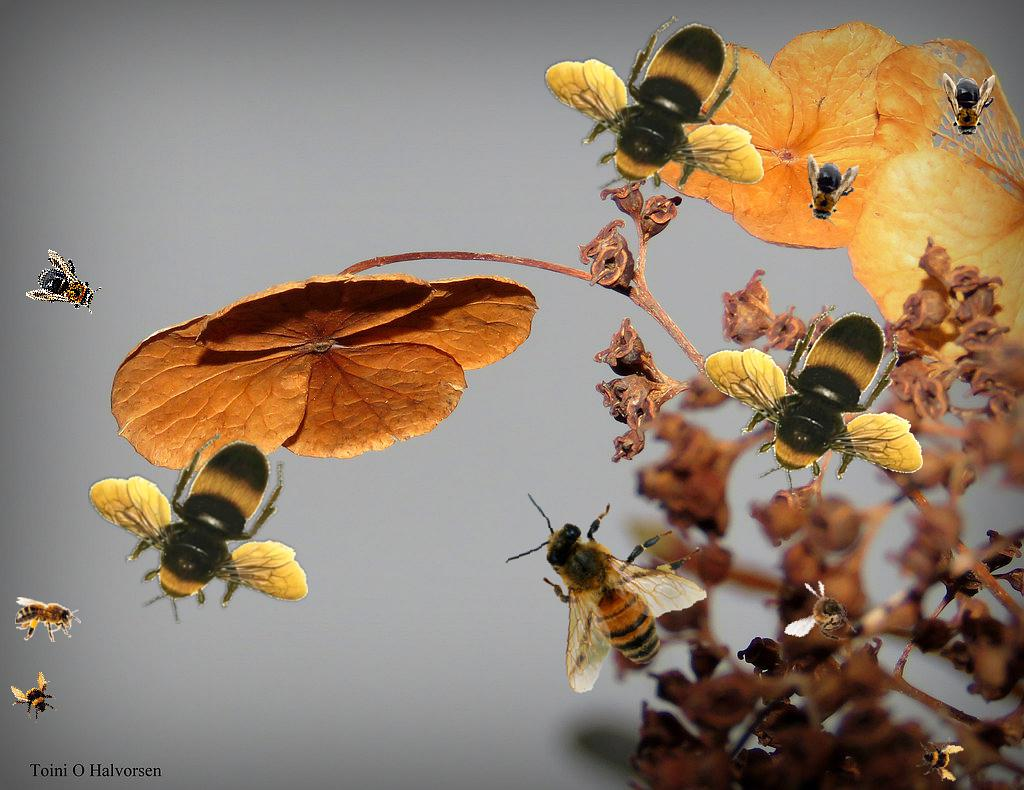Bee: (498, 478, 715, 700), (544, 16, 764, 207), (88, 433, 308, 624), (703, 305, 923, 496), (783, 574, 868, 652), (25, 248, 109, 324), (795, 153, 861, 231), (3, 667, 65, 729), (943, 73, 995, 141), (15, 597, 81, 642), (914, 732, 966, 784)
